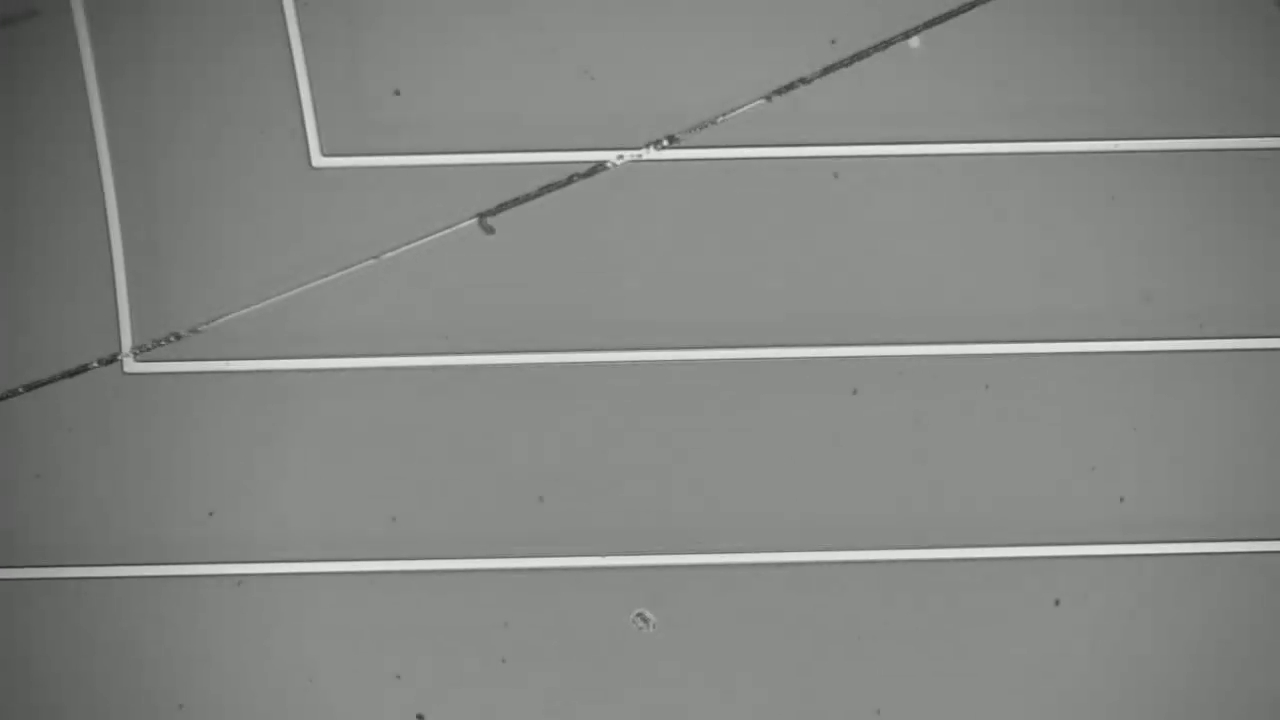scratch: (17, 1, 1000, 409)
